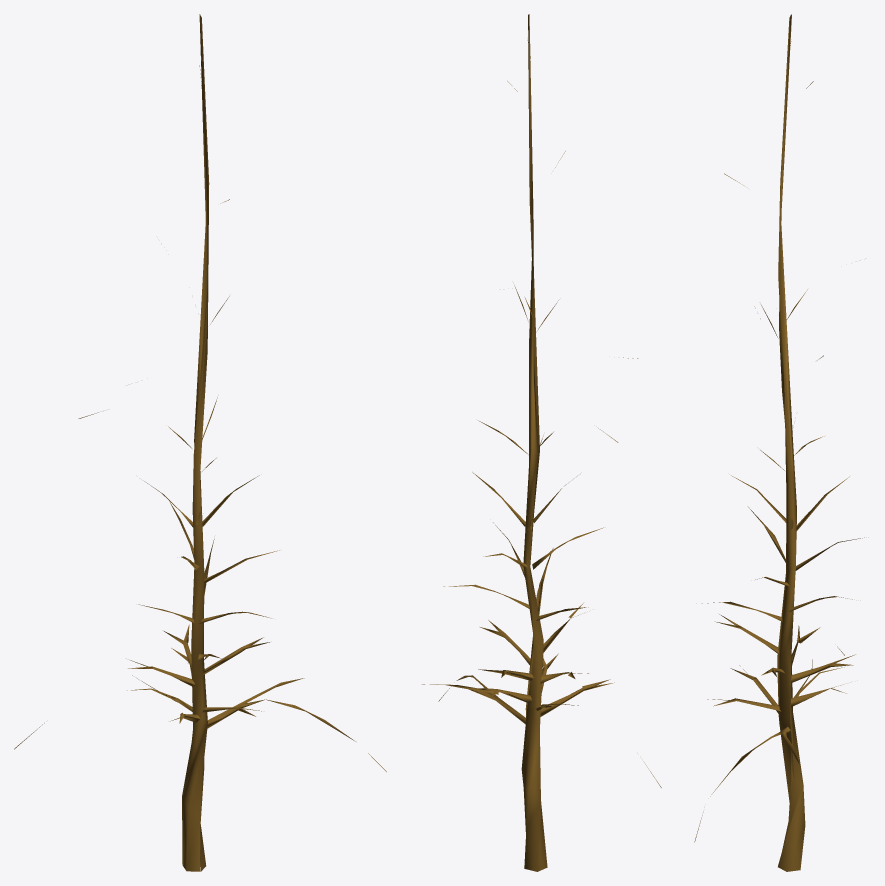
Rendered from sapin_fir_mort_l1.glb.
3 views of the same model, side by side, from view 1: azimuth 30°, elevation 25°; view 2: azimuth 150°, elevation 25°; view 3: azimuth 270°, elevation 25° (orthographic).
Parts seen in each view (by area): view 1: Tree_0_Tree_0Mat_0.001; view 2: Tree_0_Tree_0Mat_0.001; view 3: Tree_0_Tree_0Mat_0.001.
Boxes of the visible parts, left/top/right/bottom form: Tree_0_Tree_0Mat_0.001: left=14, top=14, right=386, bottom=871; Tree_0_Tree_0Mat_0.001: left=422, top=14, right=661, bottom=871; Tree_0_Tree_0Mat_0.001: left=694, top=14, right=864, bottom=871.
Size of the model in its own units: 43.97 by 120 by 22.93.
